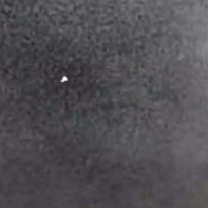Target: (59, 75, 69, 83)
